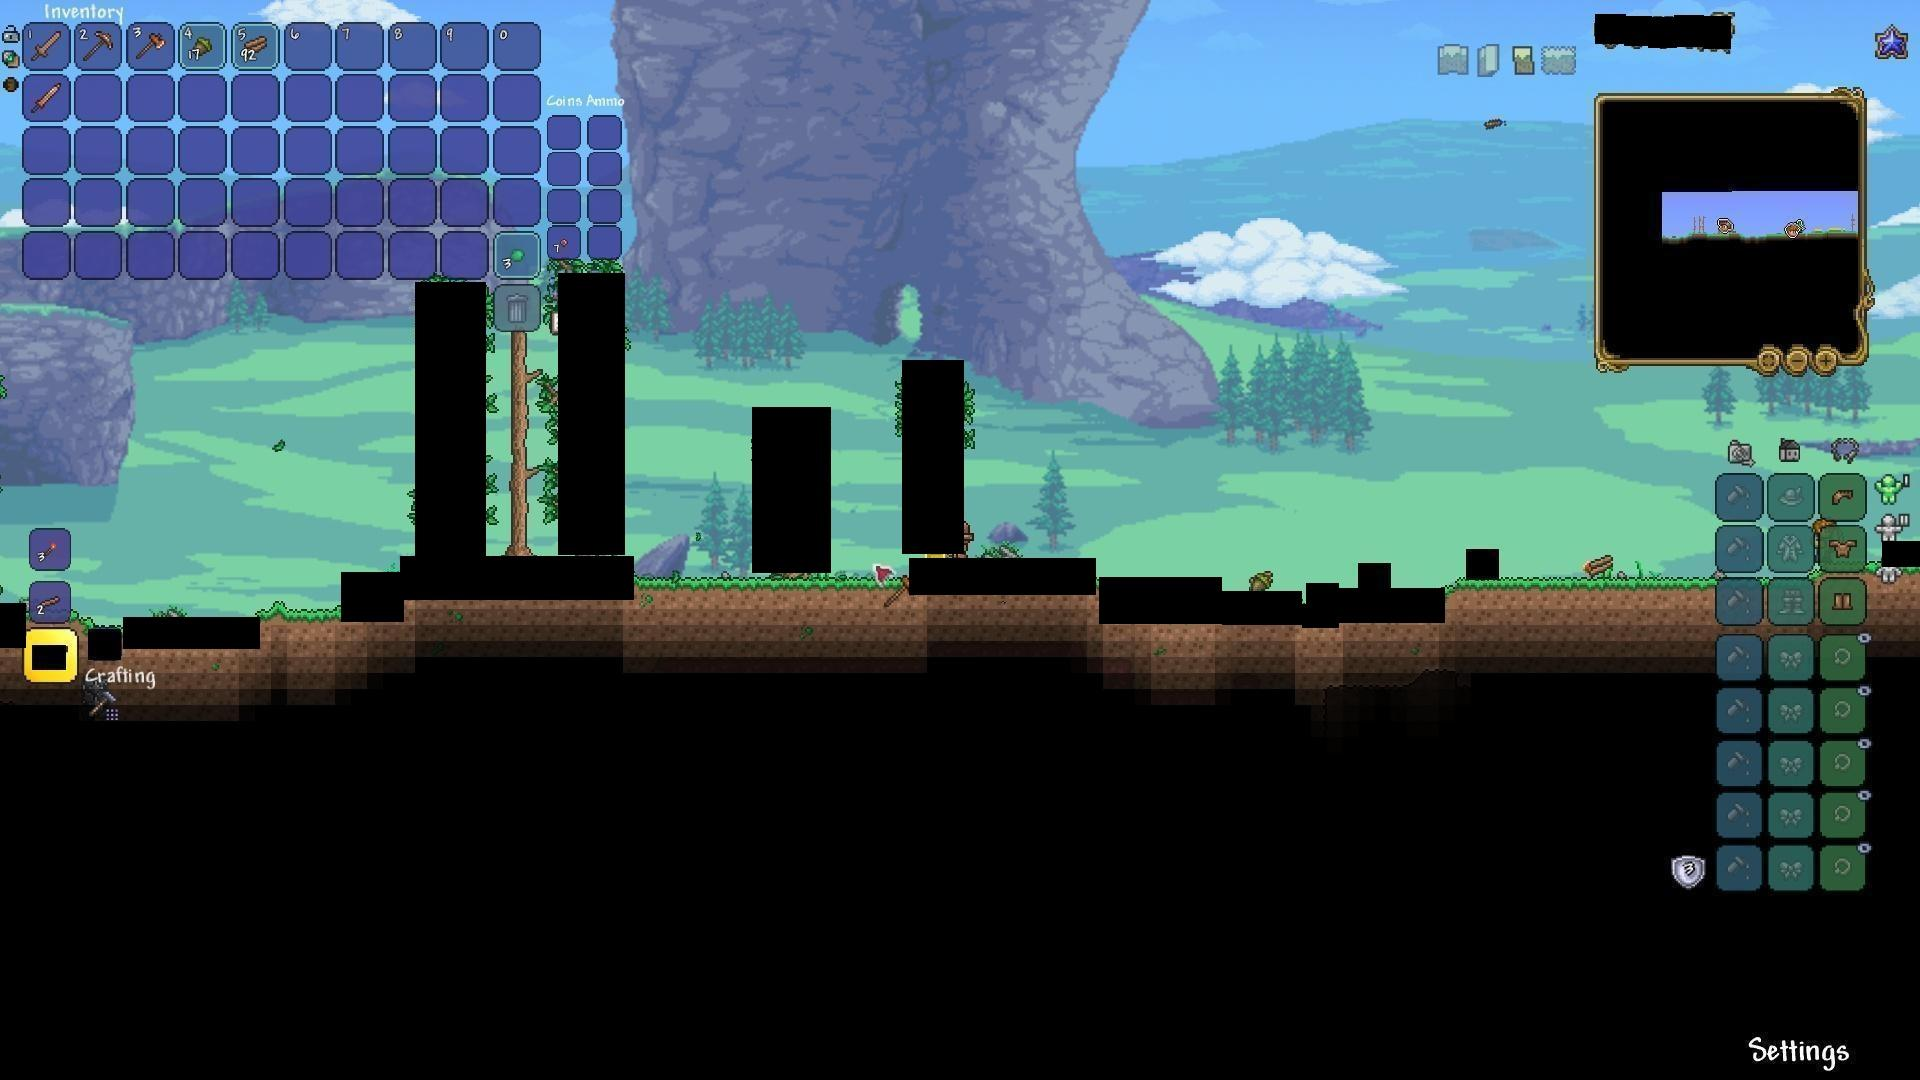breastplate: (1830, 535, 1859, 558)
dirt: (1447, 575, 1714, 618), (638, 574, 911, 609), (265, 604, 342, 636)
helmet: (1829, 485, 1857, 509)
legs: (1832, 587, 1857, 615)
tree: (491, 322, 545, 554)
wood: (239, 29, 272, 59), (1586, 553, 1618, 583)
